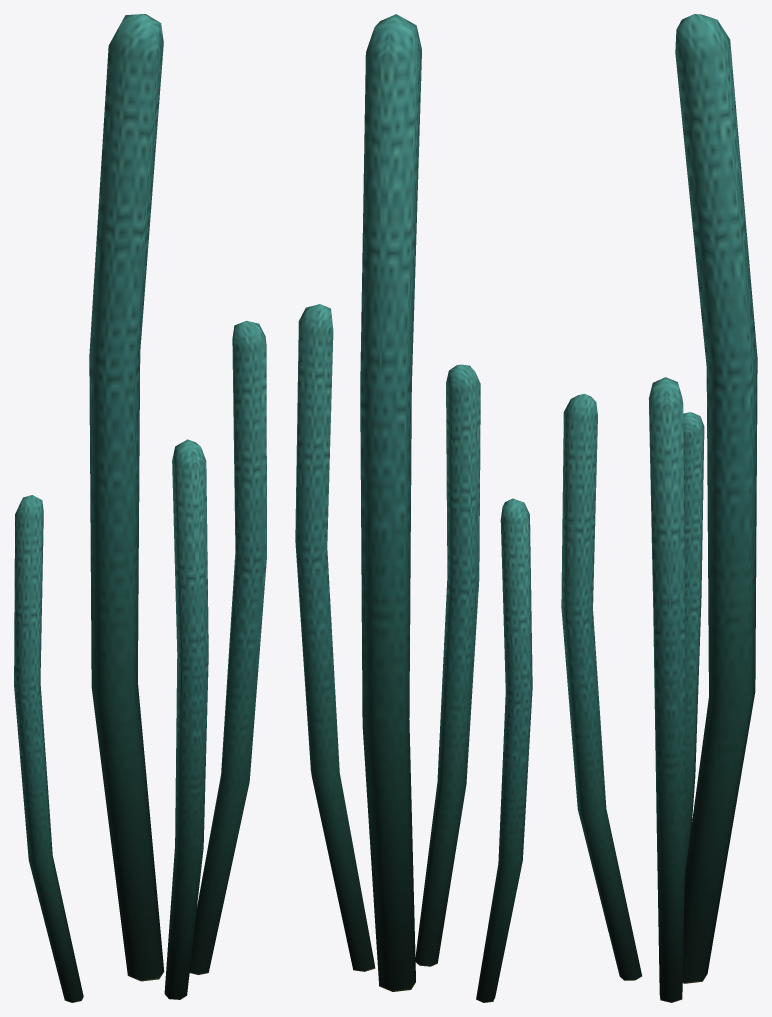
The model's file is Coral_38a.FBX.
3 views of the same model, side by side, from view 1: azimuth 30°, elevation 25°; view 2: azimuth 150°, elevation 25°; view 3: azimuth 270°, elevation 25° (orthographic).
Visible parts, largest first — view 1: Coral_38a; view 2: Coral_38a; view 3: Coral_38a.
Boxes of the visible parts, bbox=[...] form: Coral_38a: bbox=[14, 14, 266, 1002]; Coral_38a: bbox=[295, 14, 532, 1002]; Coral_38a: bbox=[561, 14, 757, 1002].
Bounding box in the file's own units: 14.82 × 56.26 × 10.39.
